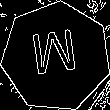M_S: (30, 29, 83, 85)
